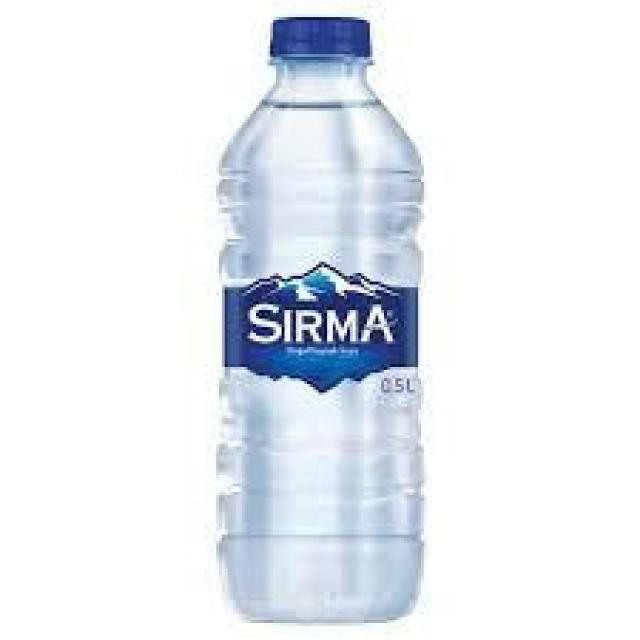bottle: (203, 0, 445, 640)
